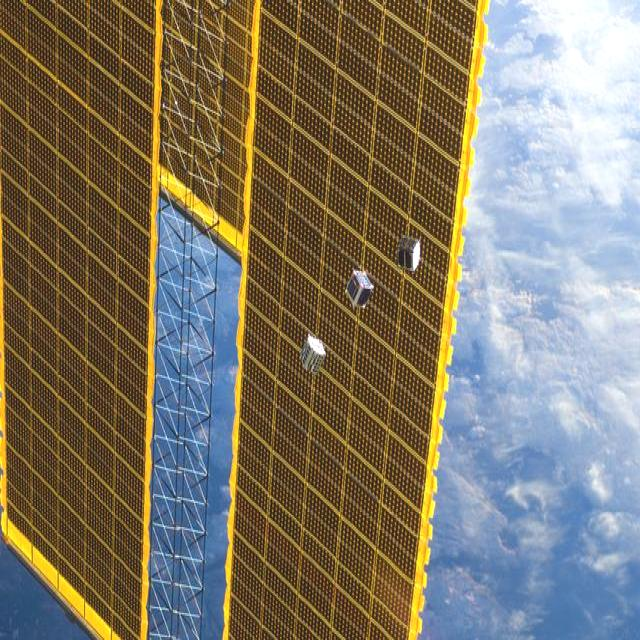medium_debris: (11, 0, 432, 619), (336, 266, 376, 307), (298, 326, 322, 382), (397, 227, 420, 279)
